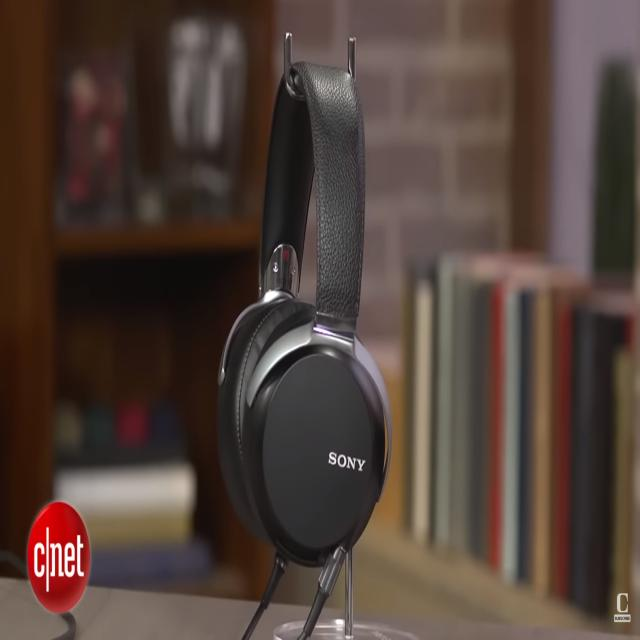Headphone: (215, 63, 393, 573)
